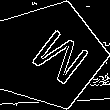M_SW: (14, 21, 85, 89)
